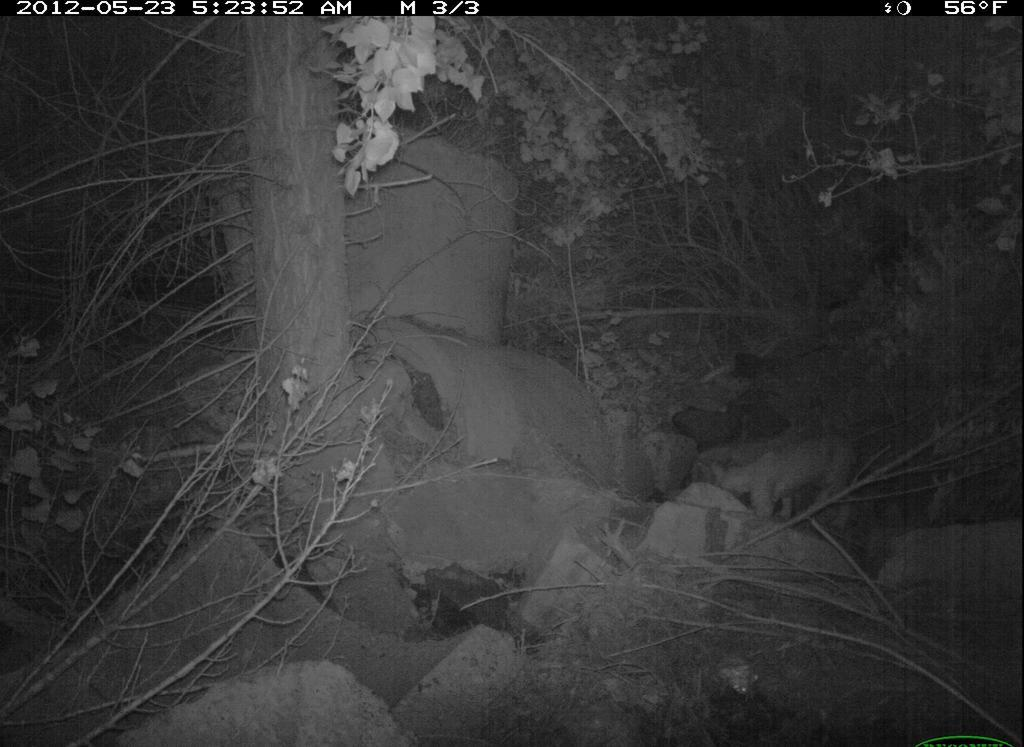bobcat: (701, 428, 880, 529)
